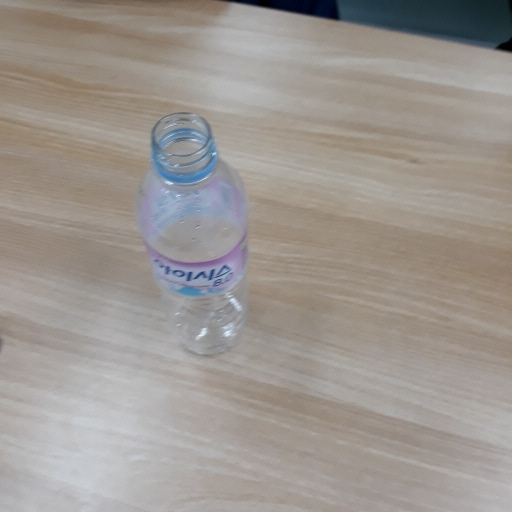Plastic_0: (135, 109, 251, 359)
